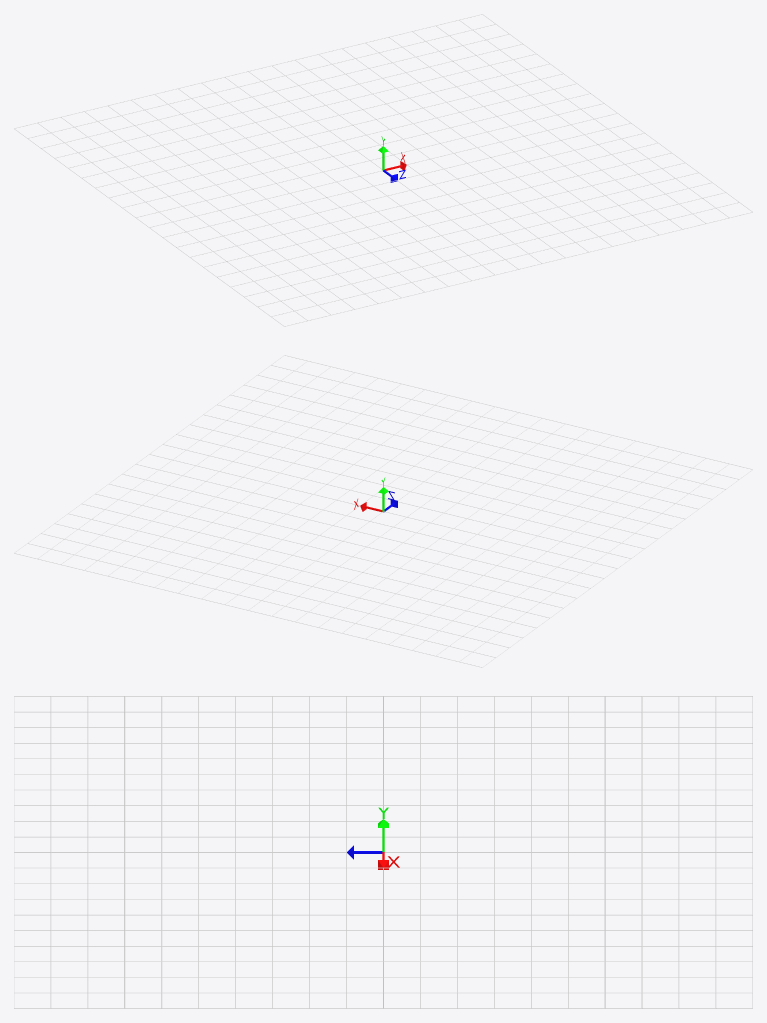
Rendered from grid_axis.gltf.
3 views of the same model, one above another, from view 1: azimuth 30°, elevation 25°; view 2: azimuth 150°, elevation 25°; view 3: azimuth 270°, elevation 25° (orthographic). The views are drawn at different scales.
Visible parts, largest first — view 1: Grid; view 2: Grid; view 3: Grid.
Boxes of the visible parts, bbox=[...] form: Grid: bbox=[14, 14, 752, 326]; Grid: bbox=[14, 355, 752, 667]; Grid: bbox=[14, 696, 752, 1008].
Size of the model in its own units: 20 by 1.49 by 20.
